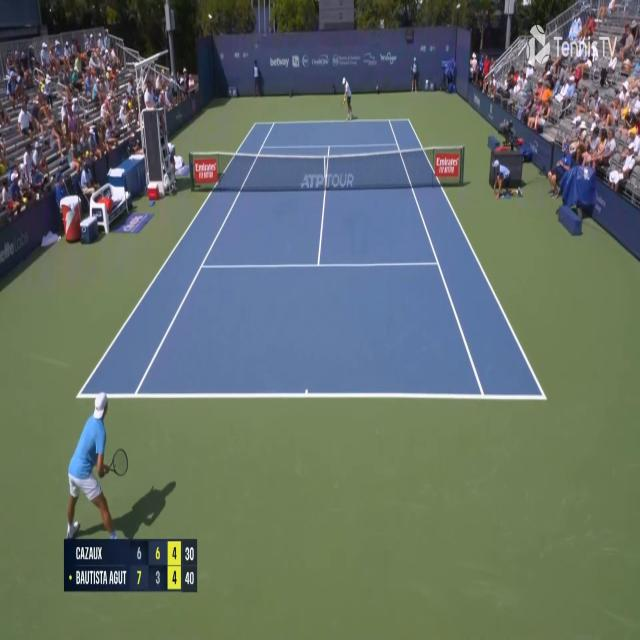tennis-player: (64, 386, 130, 548), (338, 75, 354, 121)
